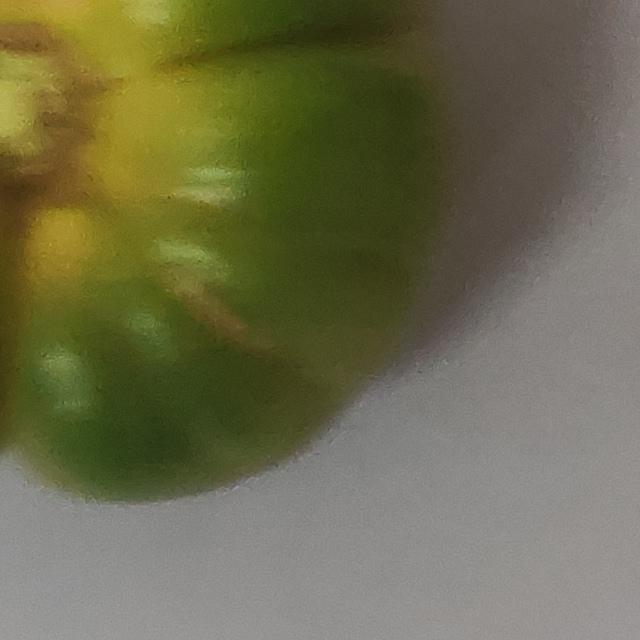tomato: (0, 0, 508, 564)
